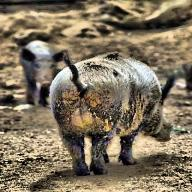boar: (36, 31, 188, 181)
